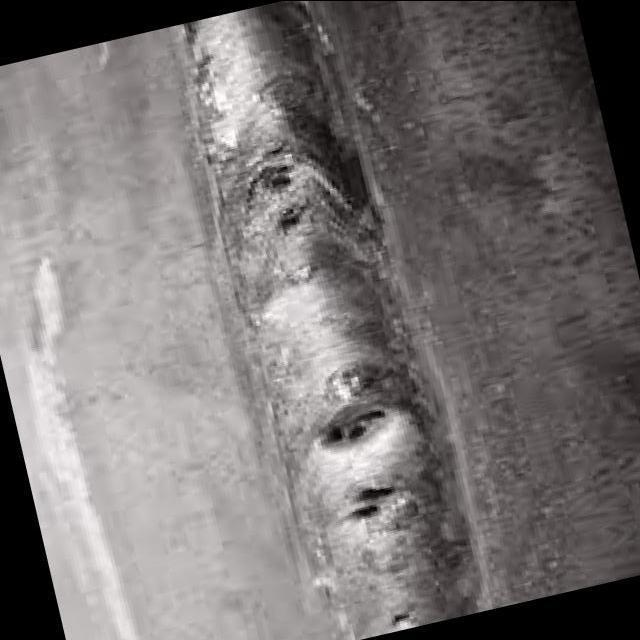defect: (313, 399, 399, 455), (338, 477, 405, 522), (246, 137, 298, 194), (260, 192, 309, 235), (381, 603, 416, 629)
